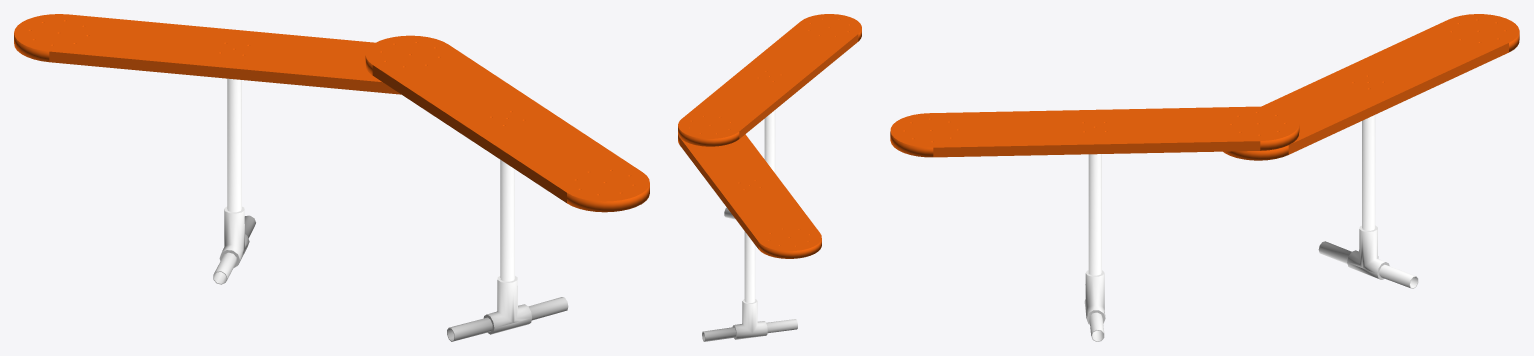
Rendered from pathmarker1.dae.
The picture shows the model from 3 angles, left to right: view 1: azimuth 30°, elevation 25°; view 2: azimuth 150°, elevation 25°; view 3: azimuth 270°, elevation 25°; orthographic projection. The views are drawn at different scales.
Visible parts, largest first — view 1: path_marker.002; view 2: path_marker.002; view 3: path_marker.002.
Part boxes in pixels (x1,y1,x2,y2): path_marker.002: [14, 14, 649, 341]; path_marker.002: [678, 14, 861, 341]; path_marker.002: [890, 14, 1519, 341].
Size of the model in its own units: 0.6563 by 1.17 by 0.4125.
2 materials, 1 textured.
